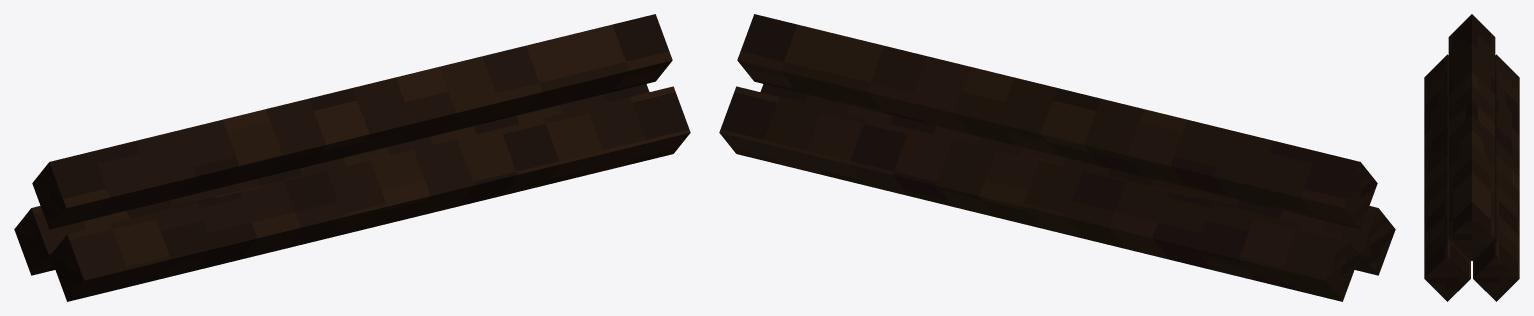
The model's file is troncos.glb.
3 views of the same model, side by side, from view 1: azimuth 30°, elevation 25°; view 2: azimuth 150°, elevation 25°; view 3: azimuth 270°, elevation 25° (orthographic). The views are drawn at different scales.
Visible parts, largest first — view 1: troncos; view 2: troncos; view 3: troncos.
Boxes of the visible parts, box(x1,y1,x2,y2) form: troncos: box(14, 14, 690, 301); troncos: box(719, 14, 1395, 301); troncos: box(1424, 14, 1519, 301).
Bounding box in the file's own units: 2 × 0.4 × 0.4.
1 material, 1 textured.
